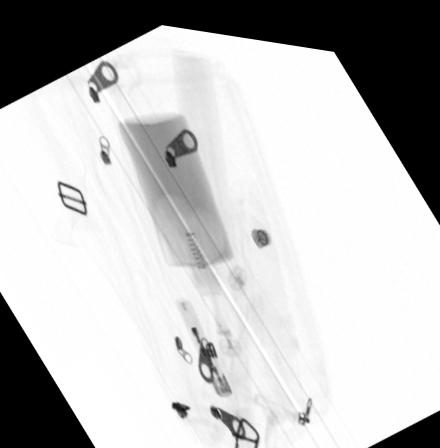Lighter: (173, 291, 233, 390)
